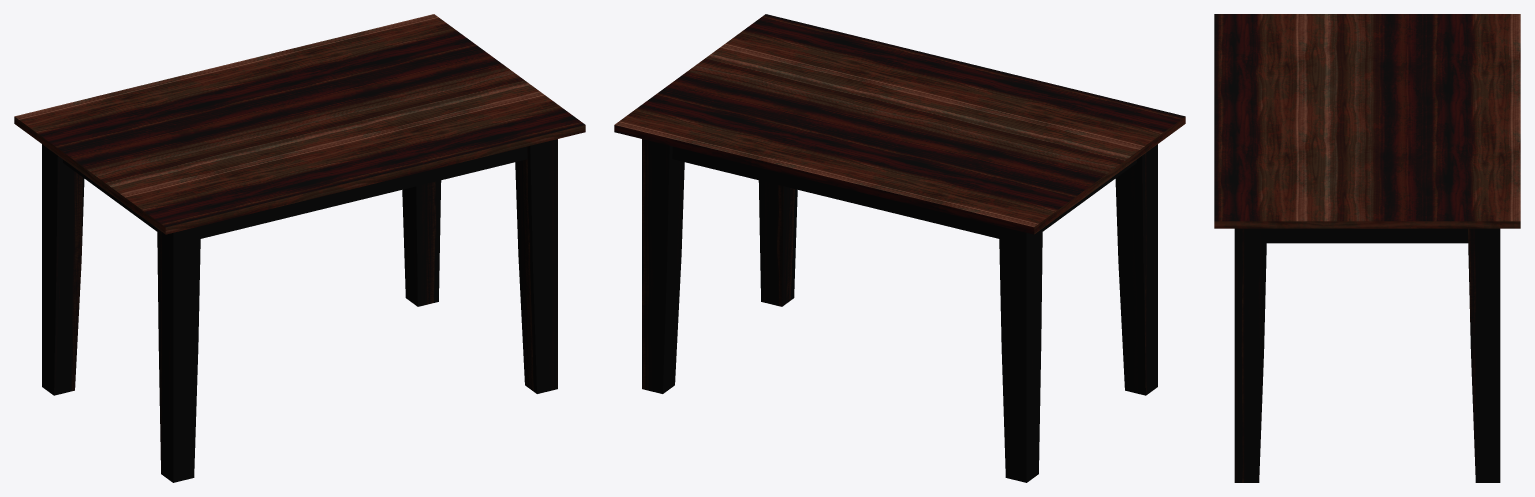
The model's file is Waifair_table.gltf.
The picture shows the model from 3 angles, left to right: view 1: azimuth 30°, elevation 25°; view 2: azimuth 150°, elevation 25°; view 3: azimuth 270°, elevation 25°; orthographic projection.
Parts seen in each view (by area): view 1: tabletop_LP, legs_LP, topbeams_LP; view 2: tabletop_LP, legs_LP, topbeams_LP; view 3: tabletop_LP, legs_LP, topbeams_LP.
Boxes of the visible parts, x1,y1,x2,y2 form: tabletop_LP: (14, 14, 585, 234); legs_LP: (42, 139, 557, 482); topbeams_LP: (63, 146, 527, 238); tabletop_LP: (614, 14, 1185, 234); legs_LP: (642, 139, 1157, 482); topbeams_LP: (672, 146, 1136, 238); tabletop_LP: (1214, 14, 1520, 228); legs_LP: (1234, 228, 1500, 482); topbeams_LP: (1266, 228, 1468, 243).
Bounding box in the file's own units: 120 × 73 × 75.
1 material, 1 textured.
